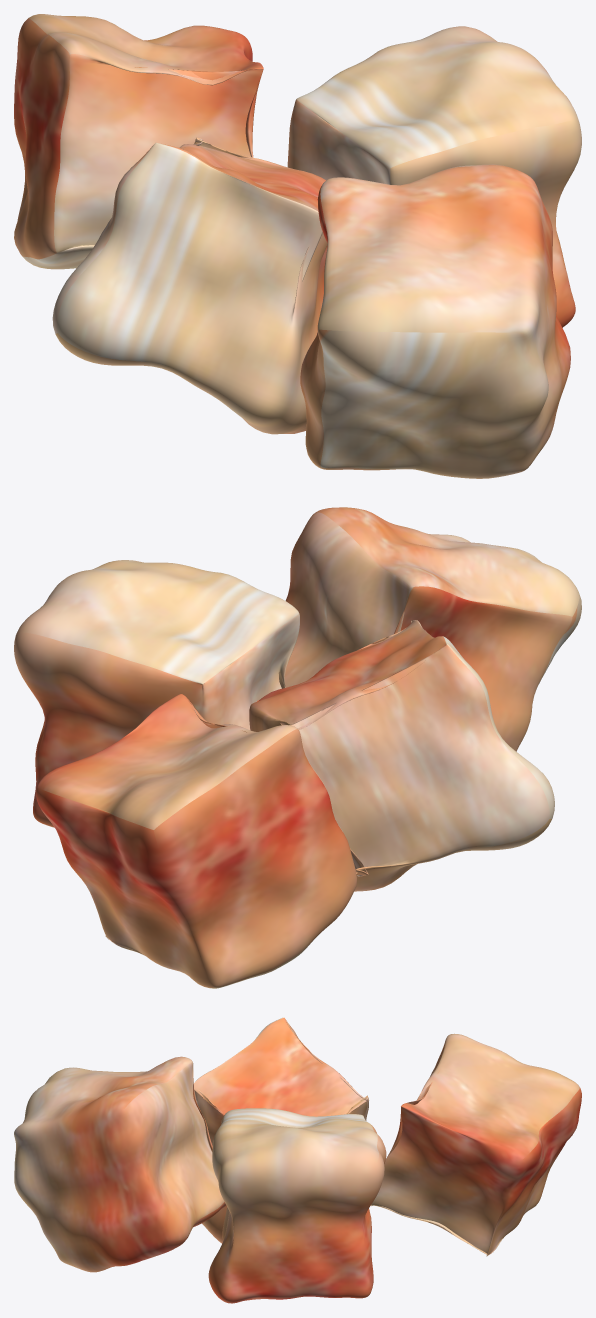
File: DicedRawFishMeat.fbx
The picture shows the model from 3 angles, top to bottom: view 1: azimuth 30°, elevation 25°; view 2: azimuth 150°, elevation 25°; view 3: azimuth 270°, elevation 25°; orthographic projection. The views are drawn at different scales.
Visible parts, largest first — view 1: DicedRawFishMeat; view 2: DicedRawFishMeat; view 3: DicedRawFishMeat.
Boxes of the visible parts, <box> form: DicedRawFishMeat: <box>14,14,581,478</box>; DicedRawFishMeat: <box>14,507,581,988</box>; DicedRawFishMeat: <box>14,1017,581,1303</box>.
Bounding box in the file's own units: 535 × 294 × 764.
